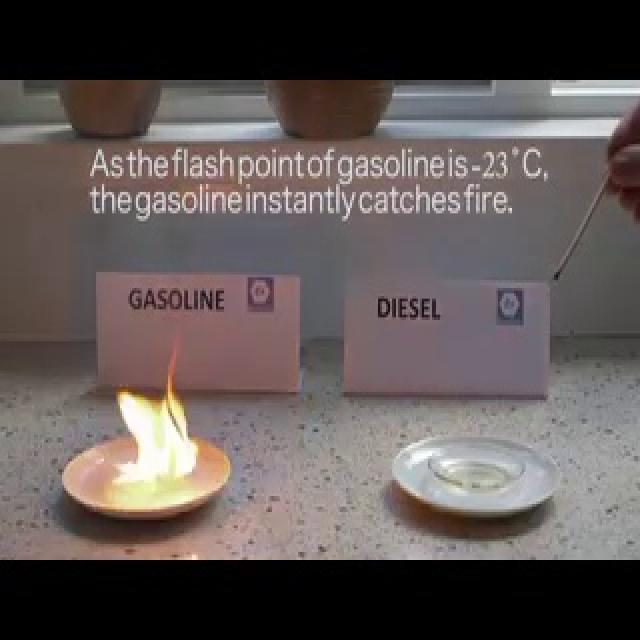fire: (107, 343, 204, 496)
